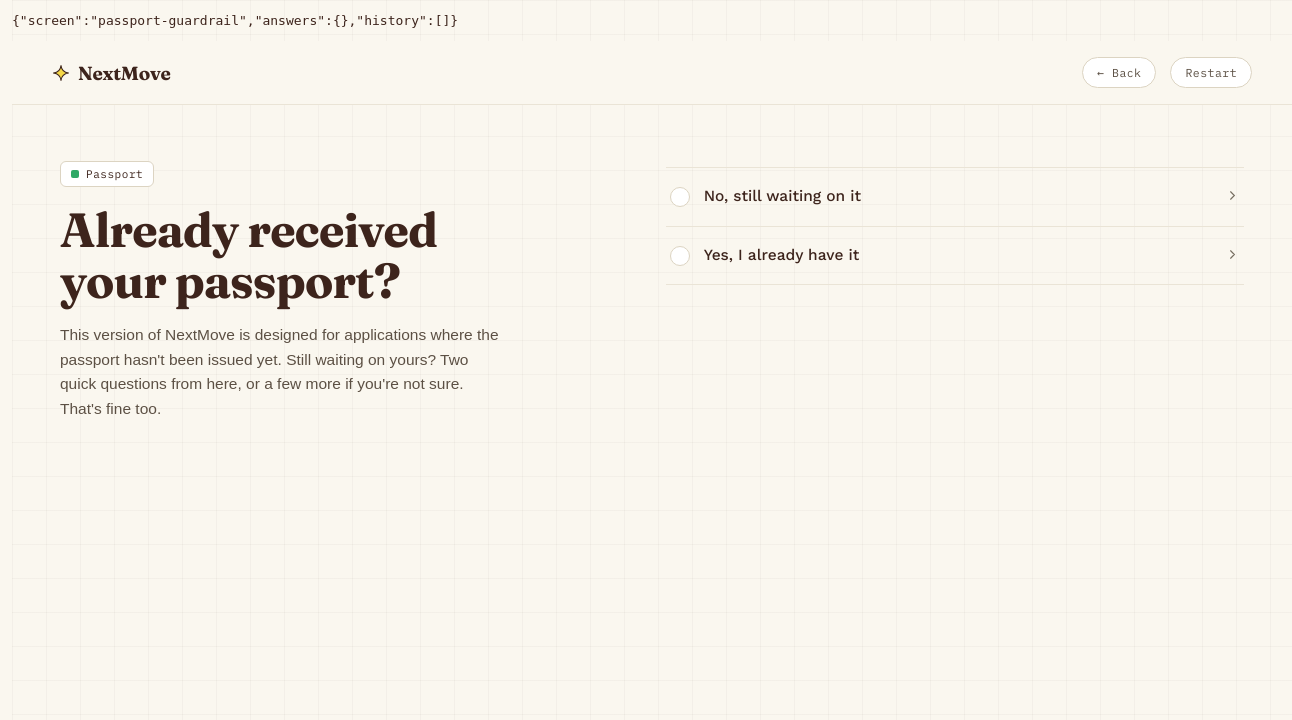
Test case: passport flow › AC-14: "Yes, I already have it" shows the guardrail exit and never reaches Q1
Click the button "Yes, I already have it" at (781, 255), box x1=666 y1=227 x2=1244 y2=285
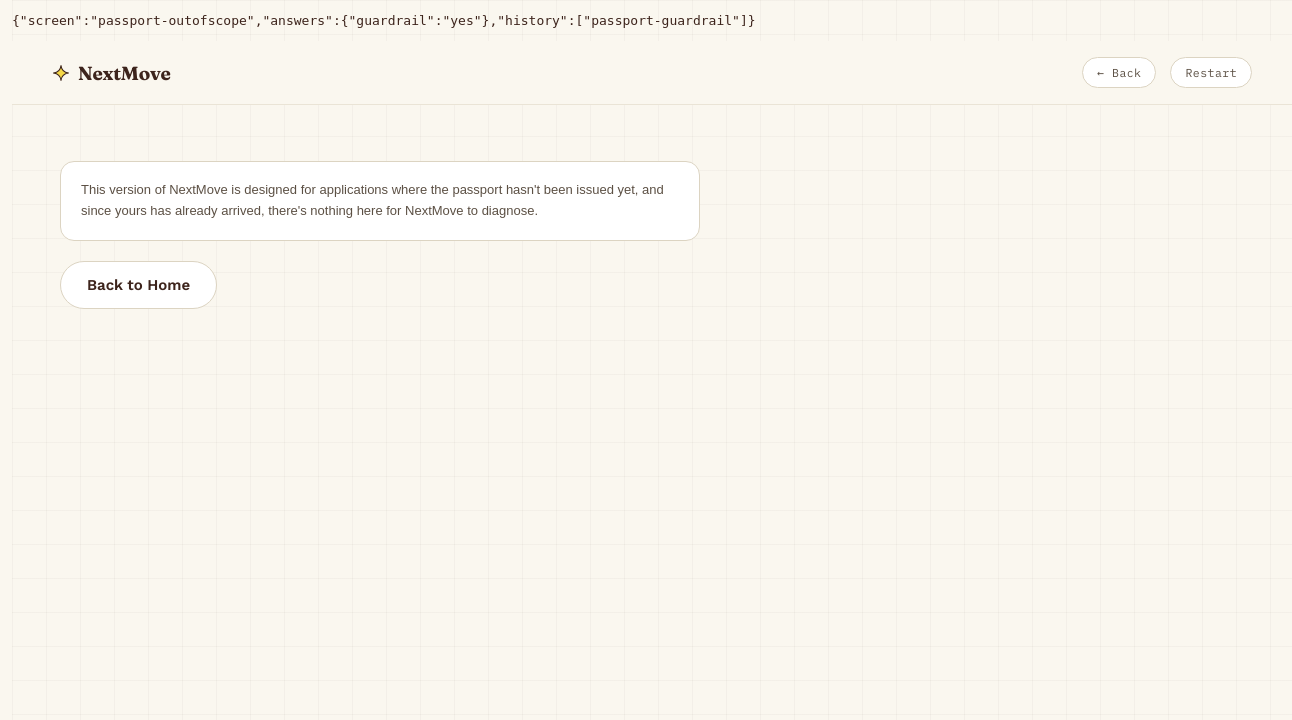
Expected: the text "there's nothing here for NextMove to diagnose" is shown, x1=81 y1=182 x2=664 y2=218
